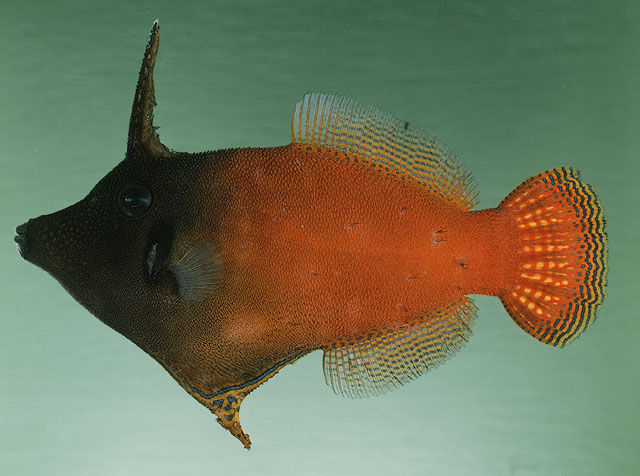fish: (14, 18, 609, 450)
